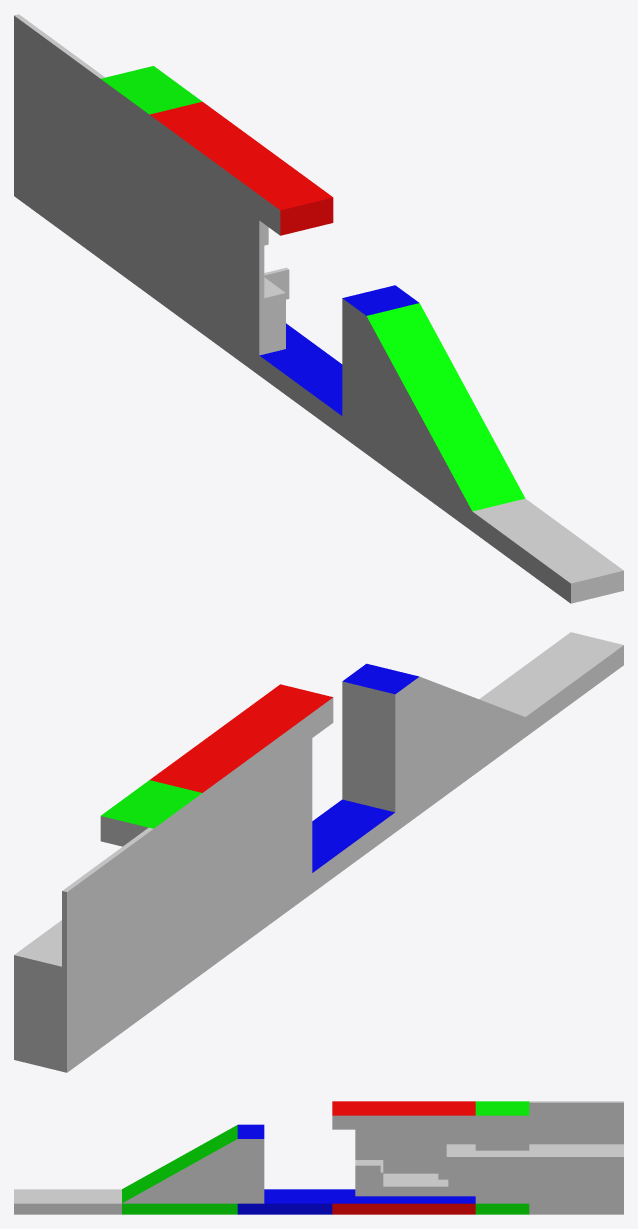
Rendered from Level_03.fbx.
The picture shows the model from 3 angles, top to bottom: view 1: azimuth 30°, elevation 25°; view 2: azimuth 150°, elevation 25°; view 3: azimuth 270°, elevation 25°; orthographic projection. The views are drawn at different scales.
Visible parts, largest first — view 1: Mesh1, Ramp; view 2: Mesh1, Ramp; view 3: Mesh1, Ramp.
Part boxes in pixels (x1=…): Mesh1: x1=14, y1=14, x2=623, y2=603; Ramp: x1=342, y1=285, x2=525, y2=511; Mesh1: x1=14, y1=632, x2=623, y2=1072; Ramp: x1=342, y1=663, x2=525, y2=812; Mesh1: x1=14, y1=1101, x2=623, y2=1214; Ramp: x1=122, y1=1124, x2=264, y2=1203.
Bounding box in the file's own units: 8.54 × 27.76 × 155.
